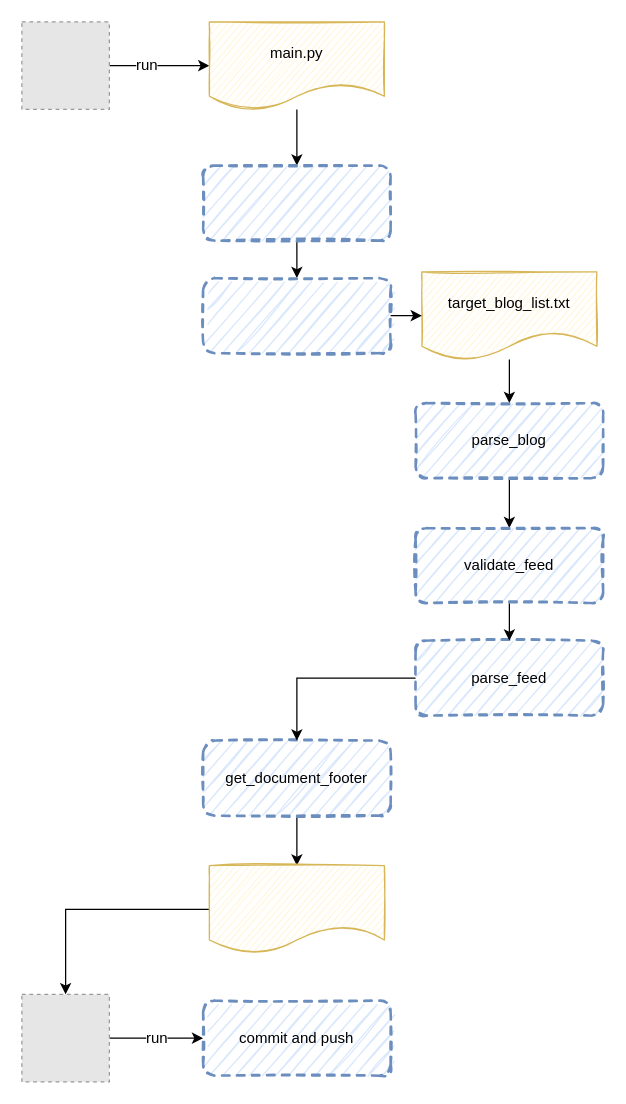
This 626x1104 diagram has some shape labels left out. Grey dashed boxes stand in for pictures. The centre of each missing label's shape, as x and y in pixels:
"get_contents" goes at (296,315).
"get_document_header" goes at (296,202).
"Y-M-D-weekly-tech-blog-follow-up.md" goes at (296,908).
